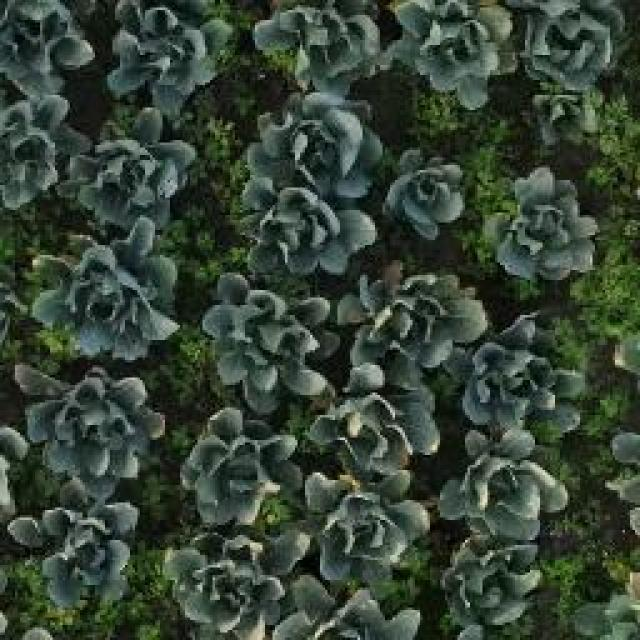cabbage: (31, 221, 180, 361), (9, 358, 167, 483), (202, 268, 332, 403), (338, 262, 488, 377), (8, 481, 139, 608), (68, 107, 202, 226), (439, 421, 568, 541), (177, 407, 304, 525), (387, 0, 518, 112), (297, 468, 429, 579), (462, 310, 588, 426), (160, 525, 284, 640), (106, 0, 232, 109), (252, 0, 388, 100), (311, 368, 442, 471), (488, 168, 599, 283), (442, 532, 546, 639), (519, 0, 630, 88), (0, 92, 82, 209), (0, 0, 97, 95), (381, 146, 471, 245), (270, 101, 370, 184), (259, 182, 353, 264), (524, 81, 604, 154)
